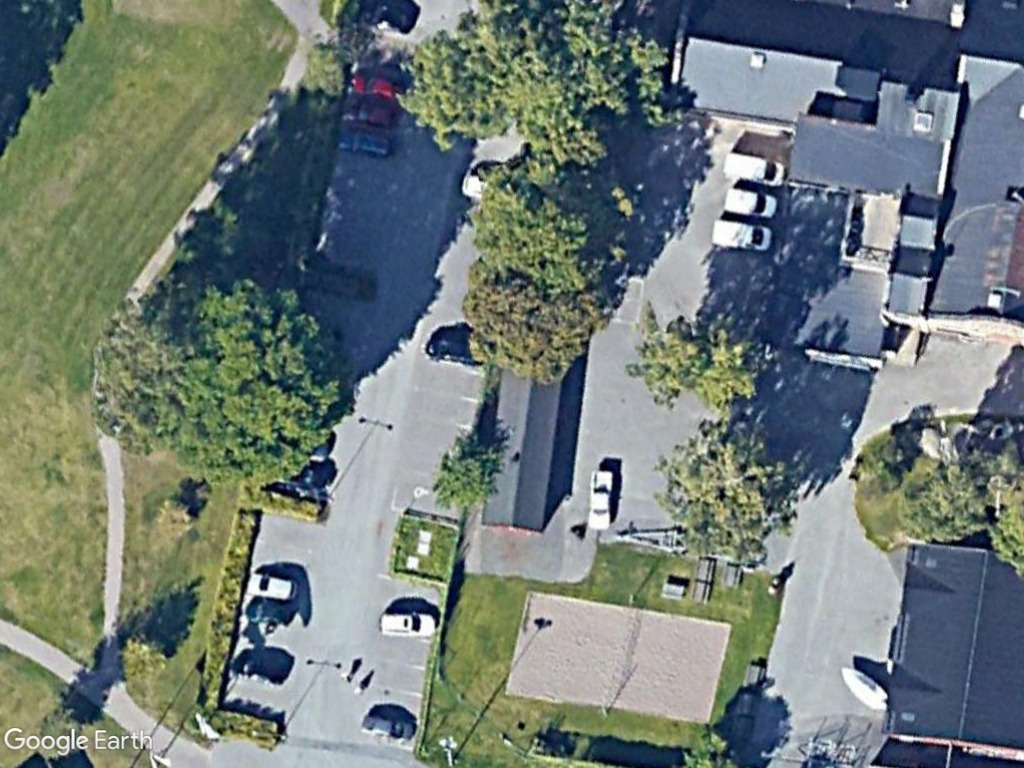car: (356, 710, 418, 747), (376, 608, 438, 639), (245, 570, 301, 604)
other: (585, 465, 616, 534)
van: (722, 148, 786, 188), (708, 216, 774, 253), (720, 184, 779, 220)
